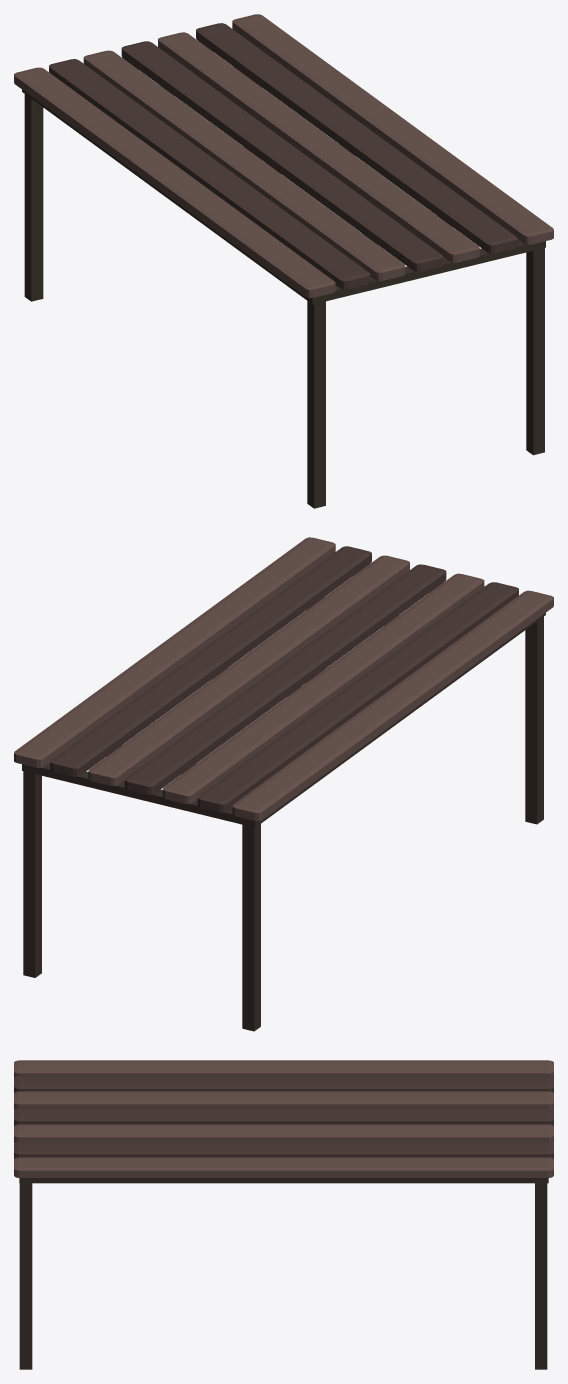
The model's file is Table_01.glb.
3 views of the same model, one above another, from view 1: azimuth 30°, elevation 25°; view 2: azimuth 150°, elevation 25°; view 3: azimuth 270°, elevation 25° (orthographic). The views are drawn at different scales.
Parts seen in each view (by area): view 1: Table_01; view 2: Table_01; view 3: Table_01.
Part boxes in pixels (x1,y1,x2,y2): Table_01: [14, 14, 553, 508]; Table_01: [14, 537, 553, 1031]; Table_01: [14, 1060, 553, 1369].
Size of what is drawn, in the model's own units: 1.2 by 1.03 by 2.48.
Materials: 1 (1 with a texture image).
